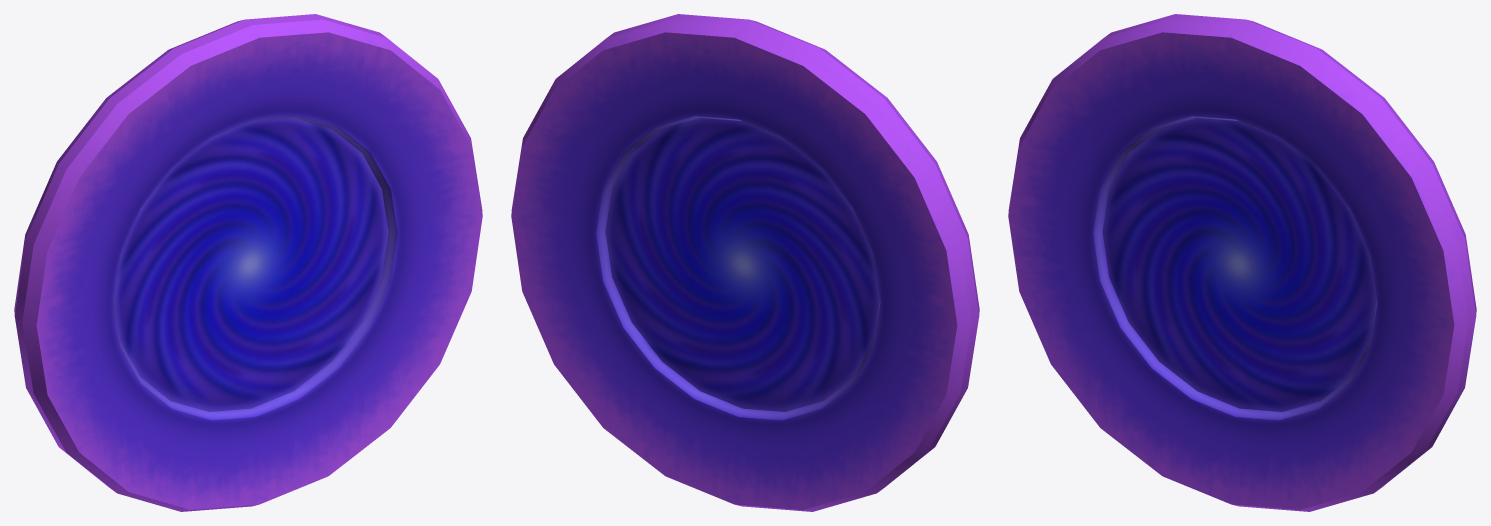
File: ExitPortal.fbx
3 views of the same model, side by side, from view 1: azimuth 30°, elevation 25°; view 2: azimuth 150°, elevation 25°; view 3: azimuth 330°, elevation 25° (orthographic).
Parts seen in each view (by area): view 1: ExitPortal; view 2: ExitPortal; view 3: ExitPortal.
Part boxes in pixels (box(x1,y1,x2,y2)): ExitPortal: box(14, 14, 482, 511); ExitPortal: box(511, 14, 979, 511); ExitPortal: box(1008, 14, 1476, 511).
Size of the model in its own units: 2.06 by 2.06 by 0.1731.
